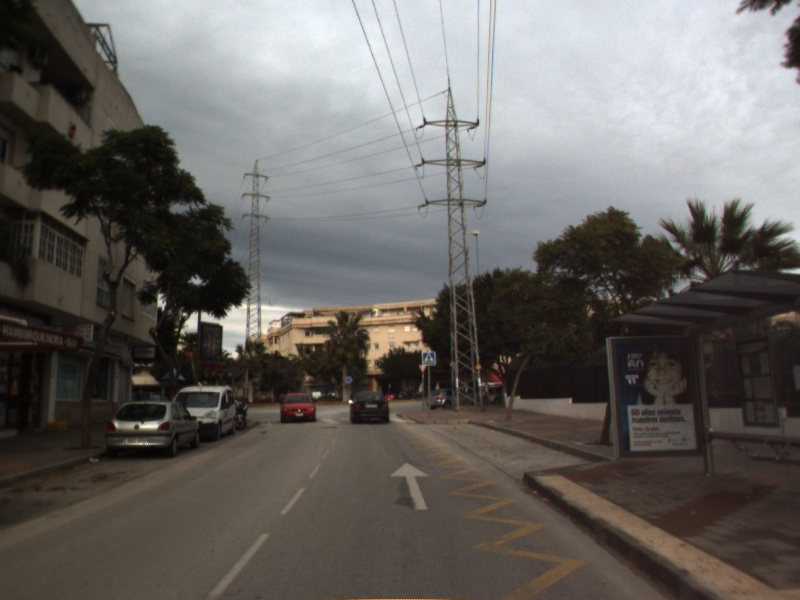STRAIGHT: (388, 460, 433, 511)
